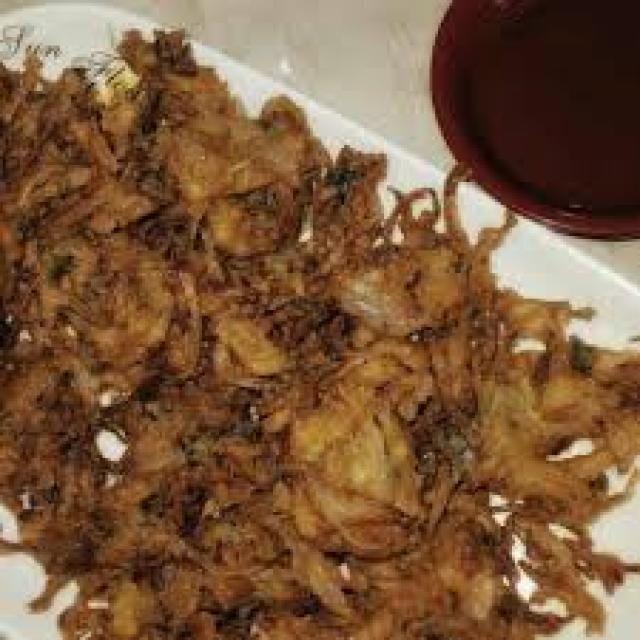BAJI: (0, 39, 637, 634)
